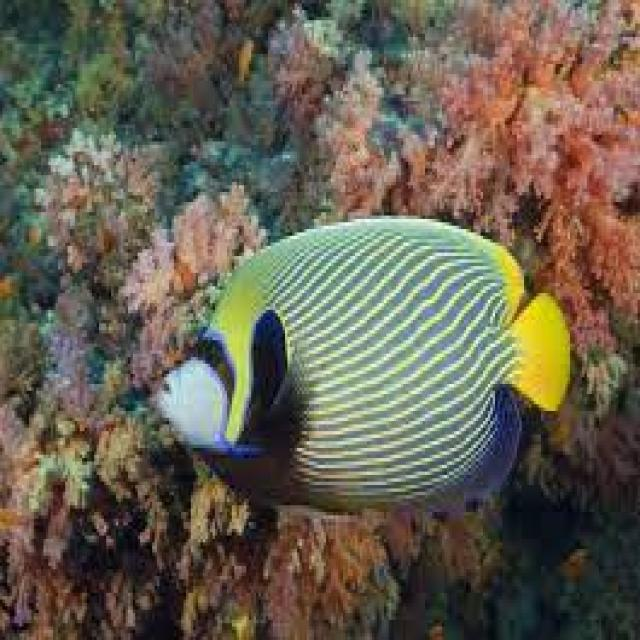AngelFish: (156, 218, 572, 510)
